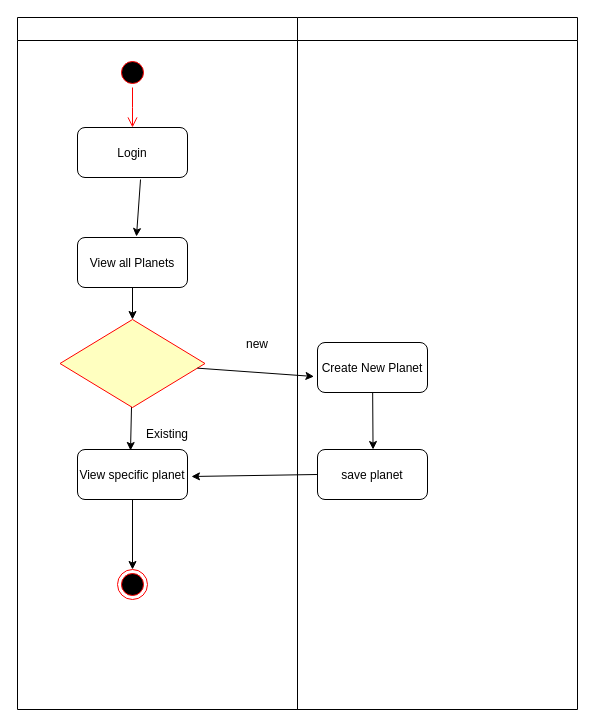
The diagram is 595 pixels wide and 727 high, and some of its shapes have lost their labels. The shapes that lost their labels are listed below. From the top down, each one's box as (x1, y1, x2, y2) in pixels, then its label:
(59, 318, 205, 408): New planet or existing planet?
(16, 16, 298, 710): User
(296, 16, 578, 710): User Services
